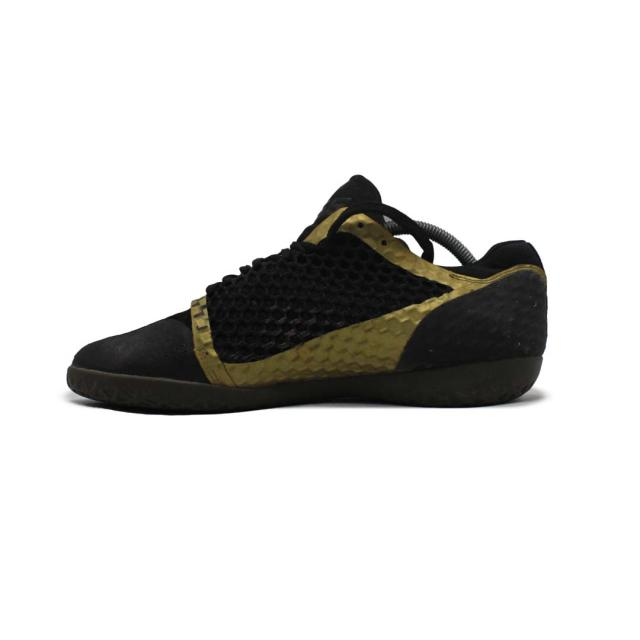heel: (522, 221, 554, 358)
midsole: (60, 362, 544, 408)
uppersole: (66, 175, 521, 366)
